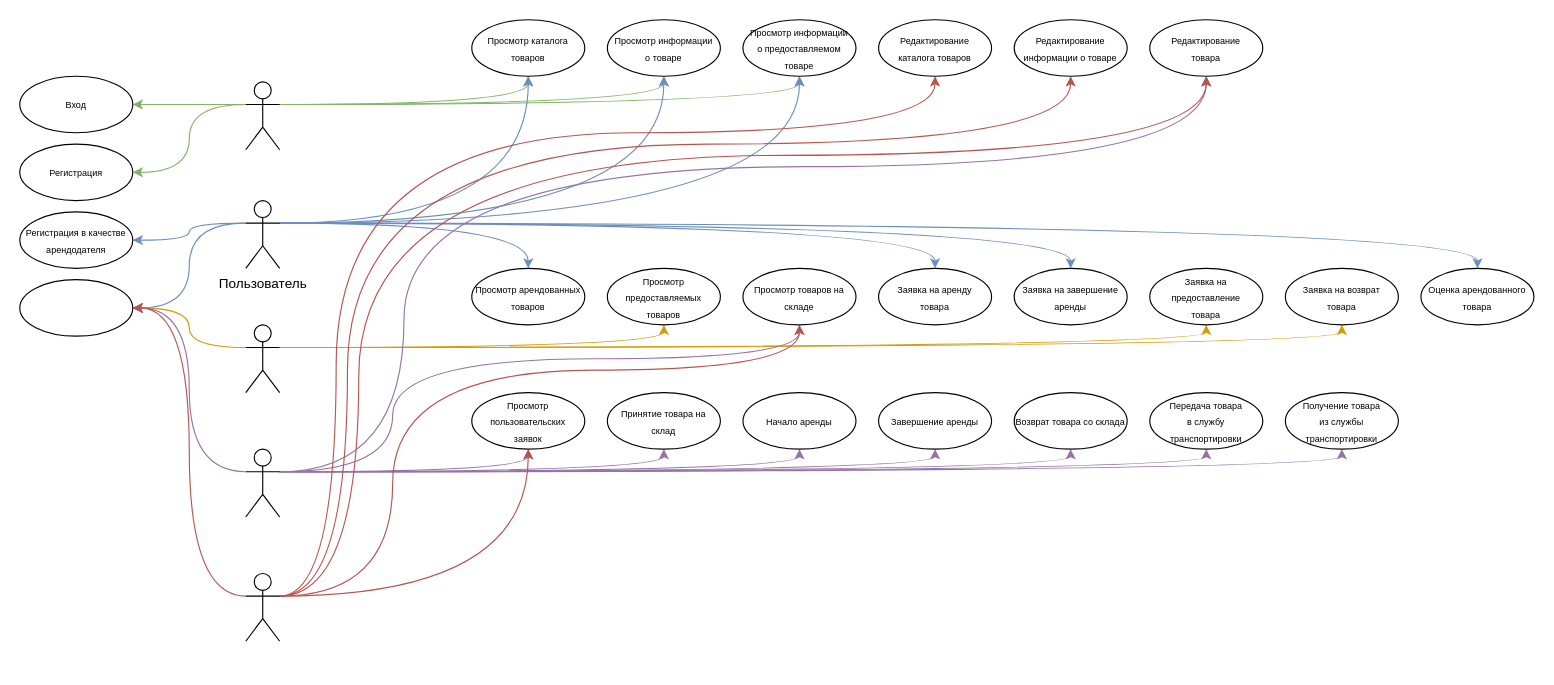
This 1554x685 diagram has some shape labels left out. Each missing label, with the centre of its shape:
"Администратор" belongs at point 262,606.
"Арендодатель" belongs at point 262,358.
"Выход" belongs at point 76,307.
"Гость" belongs at point 262,115.
"Кладовщик" belongs at point 262,482.
